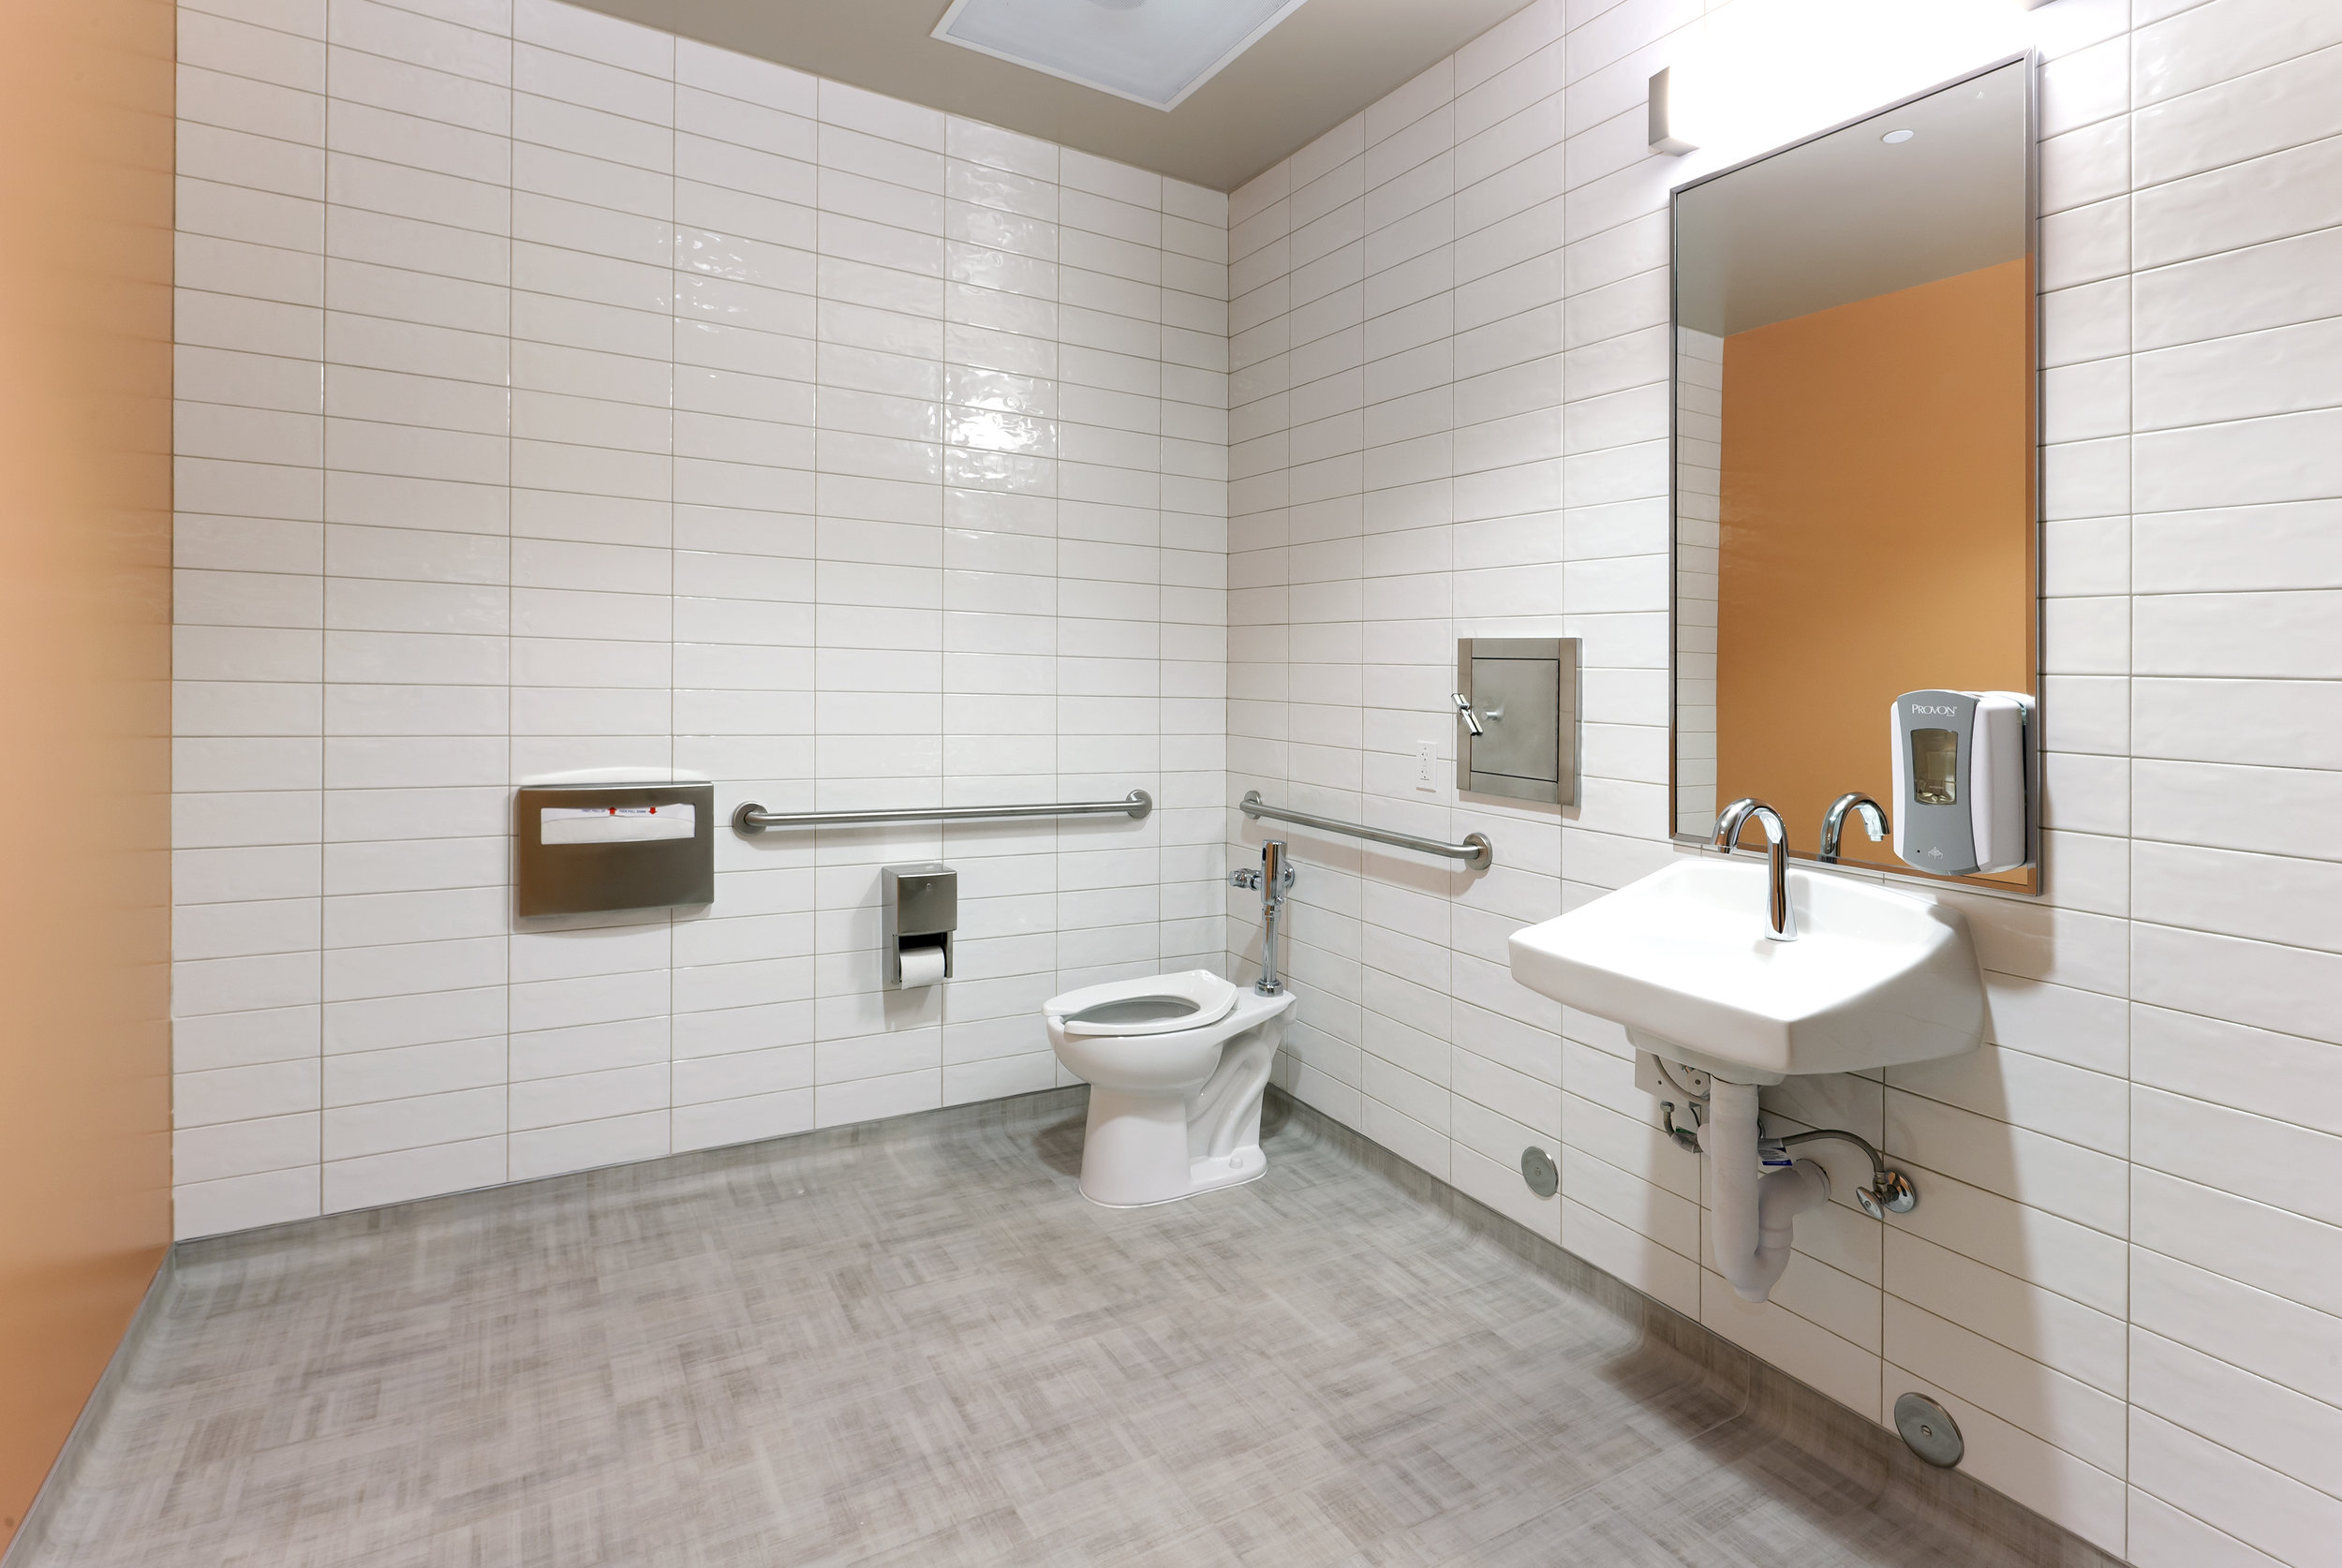dispenser: (1871, 681, 2046, 894), (504, 787, 721, 906), (875, 859, 968, 994)
faucet: (1719, 789, 1792, 933)
restroom_assist_bar: (1238, 789, 1493, 871), (732, 787, 1155, 835)
sink: (1509, 850, 1988, 1298)
toilet: (1026, 920, 1325, 1206)
